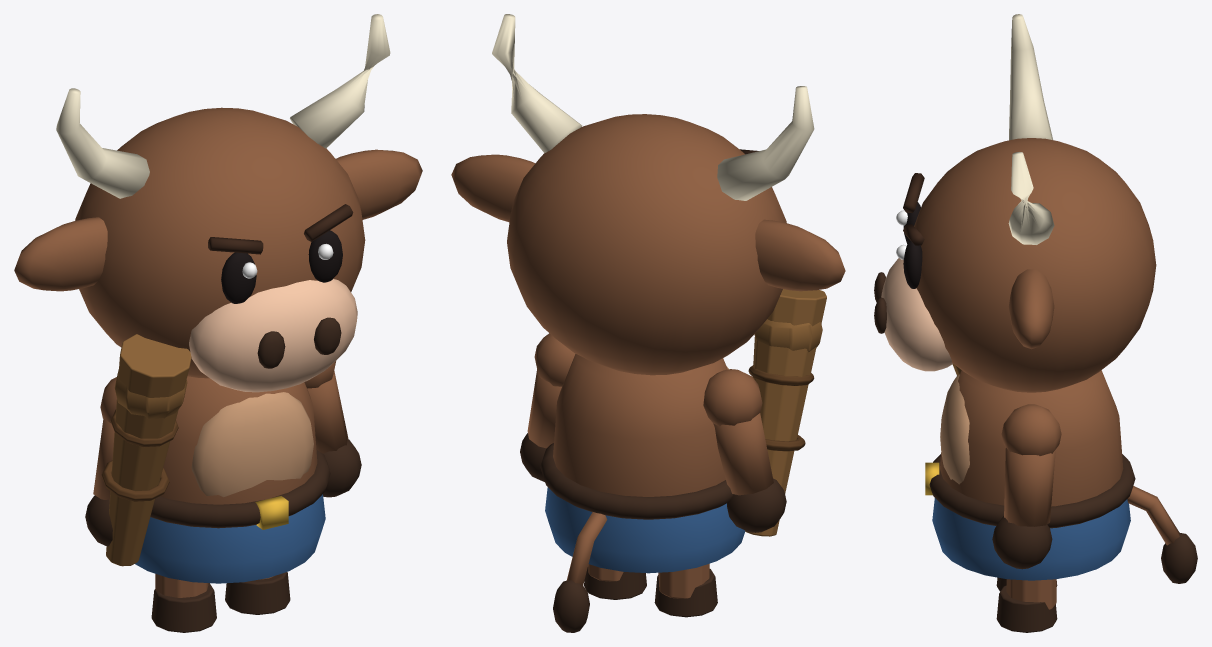
The model's file is minitaurinho.glb.
3 renders of one model, left to right at view 1: azimuth 30°, elevation 25°; view 2: azimuth 150°, elevation 25°; view 3: azimuth 270°, elevation 25°, orthographic. The views are drawn at different scales.
Visible parts, largest first — view 1: CabecaMalha, Corpo, ClavaMalha, BracoEMalha, PernaDMalha, BracoDMalha, PernaEMalha; view 2: CabecaMalha, Corpo, ClavaMalha, BracoDMalha, BracoEMalha, CaudaMalha, PernaDMalha, PernaEMalha; view 3: CabecaMalha, Corpo, BracoEMalha, PernaEMalha, CaudaMalha.
Boxes of the visible parts, x1,y1,x2,y2 form: CabecaMalha: (14, 14, 422, 392); Corpo: (135, 376, 330, 583); ClavaMalha: (101, 334, 191, 566); BracoEMalha: (304, 361, 361, 497); PernaDMalha: (151, 574, 216, 632); BracoDMalha: (85, 377, 116, 546); PernaEMalha: (225, 572, 290, 614); CabecaMalha: (451, 14, 845, 375); Corpo: (540, 354, 745, 573); ClavaMalha: (745, 289, 826, 536); BracoDMalha: (703, 369, 786, 532); BracoEMalha: (520, 333, 575, 481); CaudaMalha: (553, 512, 607, 632); PernaDMalha: (654, 563, 717, 617); PernaEMalha: (584, 564, 646, 599); CabecaMalha: (874, 14, 1156, 392); Corpo: (925, 370, 1135, 580); BracoEMalha: (992, 404, 1061, 569); PernaEMalha: (996, 579, 1057, 632); CaudaMalha: (1127, 486, 1197, 583).
Bounding box in the file's own units: 0.946 × 1.24 × 0.701.
